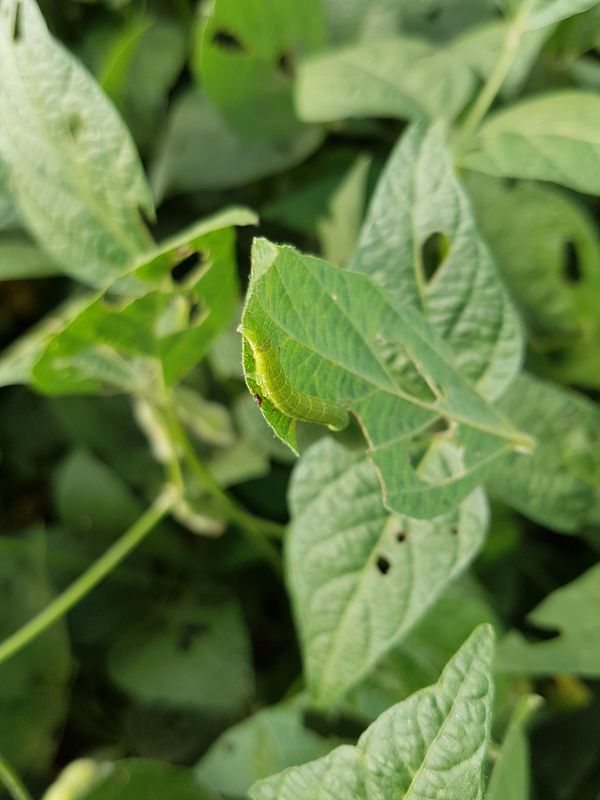Anticarsia_gemmatalis: (214, 311, 365, 446)
